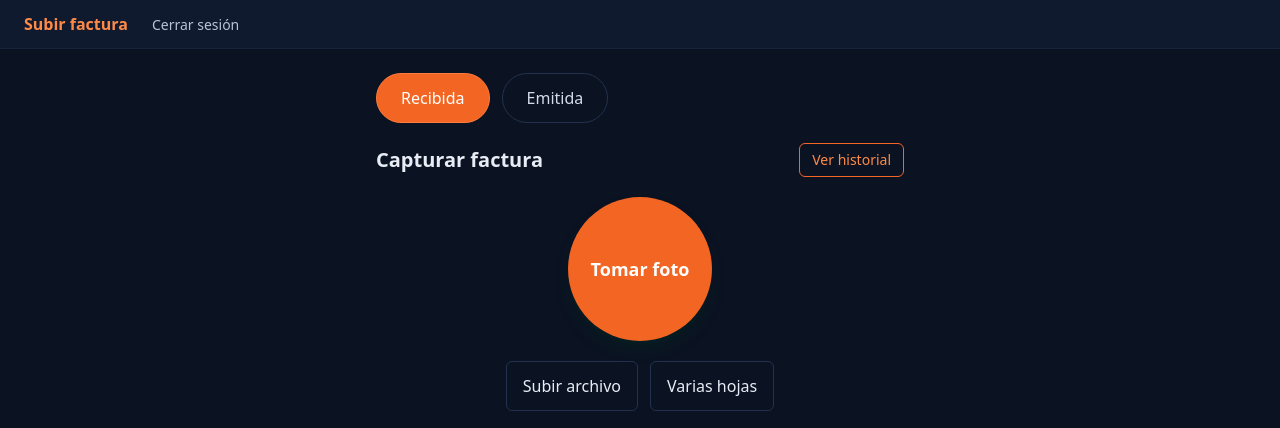
Test: AppRoutes (S4.9) › 2026-08-01: "Ver historial" vive dentro de "Subir factura" (Julio), no en el menú principal
This screenshot has width=1280, height=428.
Expected: the heading "Capturar factura" is shown, x1=376 y1=146 x2=543 y2=174
Click the link "Ver historial" at (852, 160), box x1=799 y1=143 x2=904 y2=177
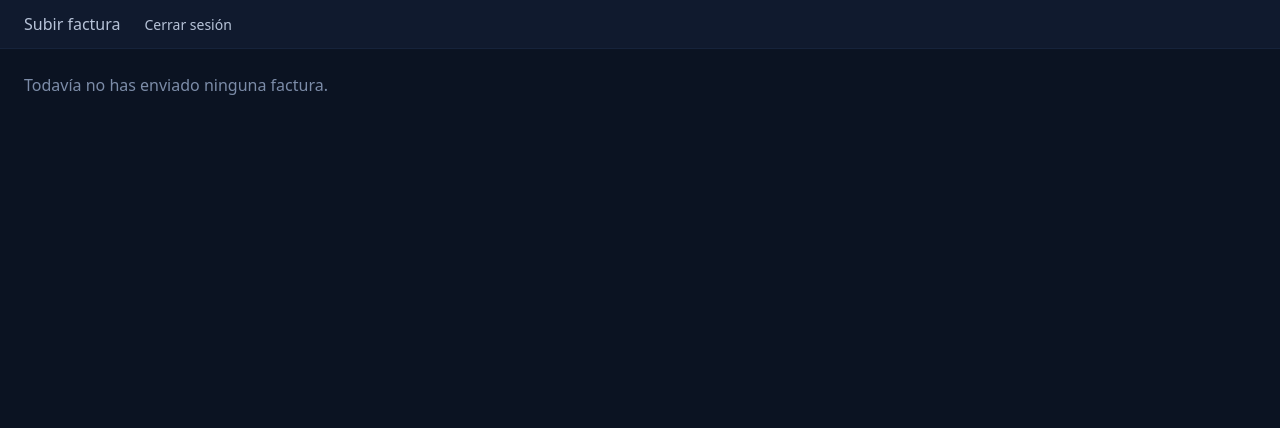
Expected: the text "Todavía no has enviado ninguna factura." is shown, x1=24 y1=74 x2=328 y2=96
